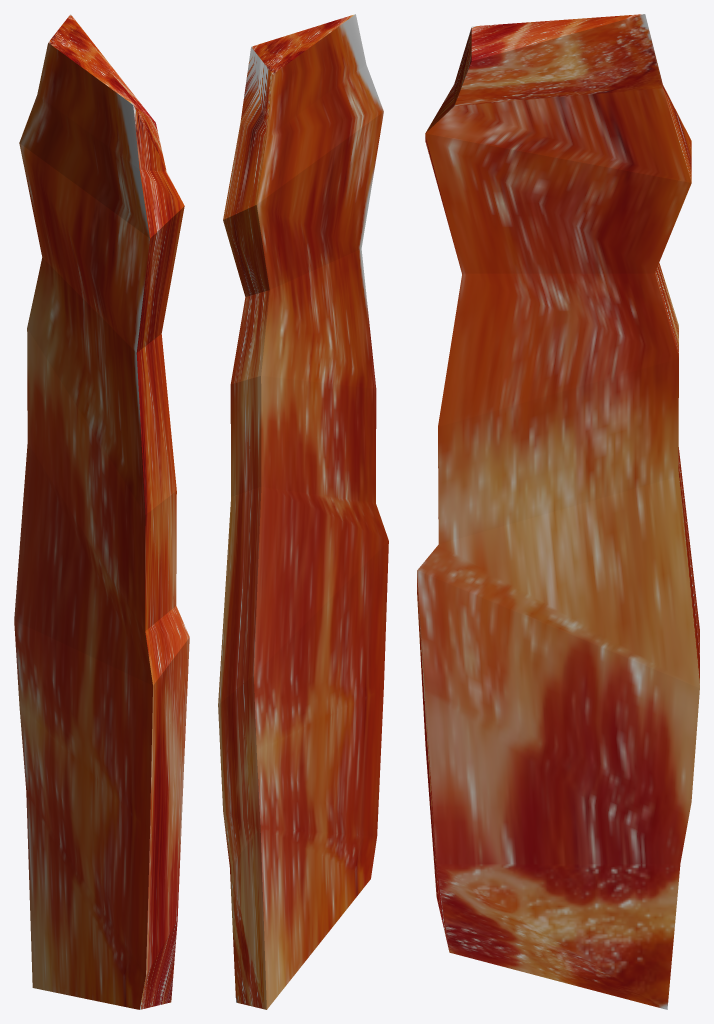
The model's file is BACONfbc.fbx.
3 renders of one model, left to right at view 1: azimuth 30°, elevation 25°; view 2: azimuth 150°, elevation 25°; view 3: azimuth 270°, elevation 25°, orthographic. The views are drawn at different scales.
Visible parts, largest first — view 1: Cube; view 2: Cube; view 3: Cube.
Part boxes in pixels (x1,y1,x2,y2): Cube: (14, 14, 189, 1009); Cube: (218, 14, 388, 1009); Cube: (417, 14, 699, 1009).
Bounding box in the file's own units: 16.51 × 419 × 108.
